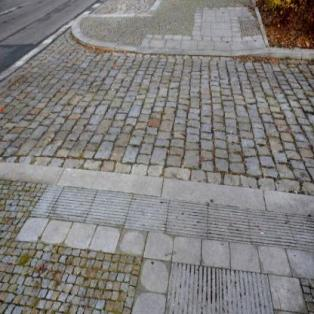Podoctatil: (28, 183, 313, 252)
